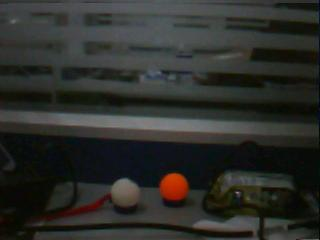oball: (159, 174, 189, 199)
